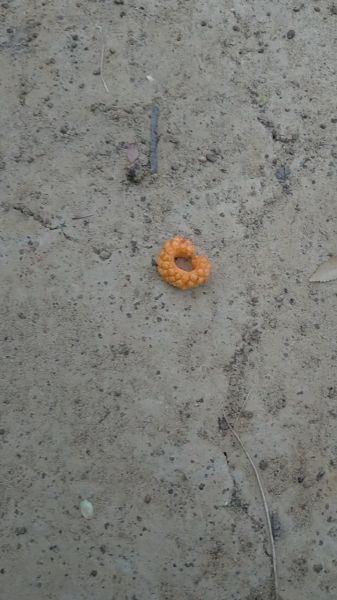eggs: (154, 227, 221, 299)
